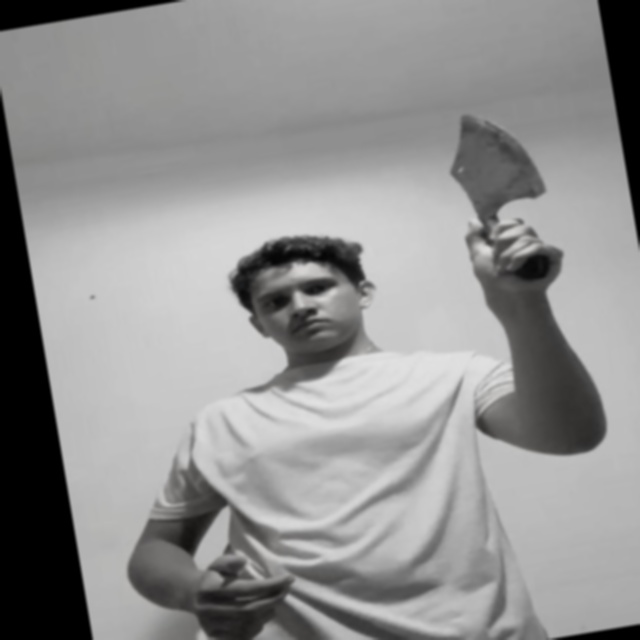Sharp-Object: (434, 104, 551, 223)
